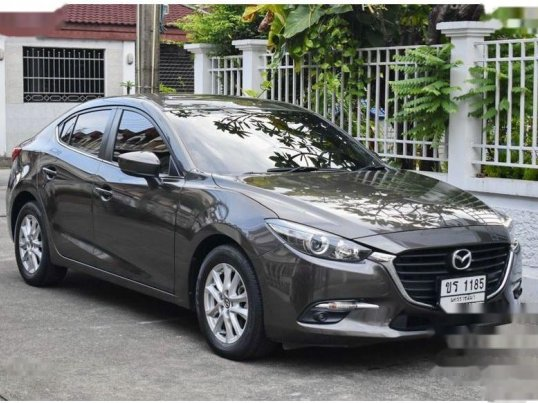sedan: (6, 92, 527, 361)
